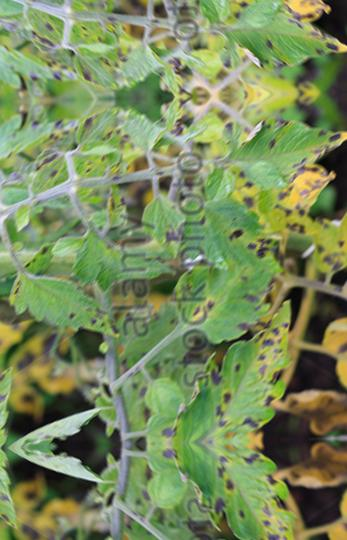Tomato Early blight leaf: (210, 297, 296, 441), (5, 263, 122, 339), (182, 191, 278, 279), (231, 113, 347, 185), (0, 362, 22, 449)
